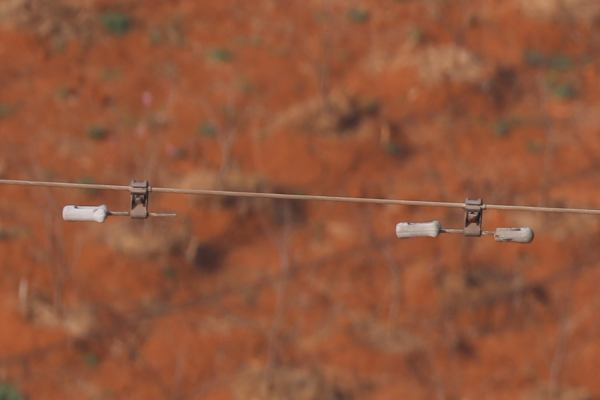damper: (391, 196, 537, 247)
damper_defect: (59, 176, 184, 227)
